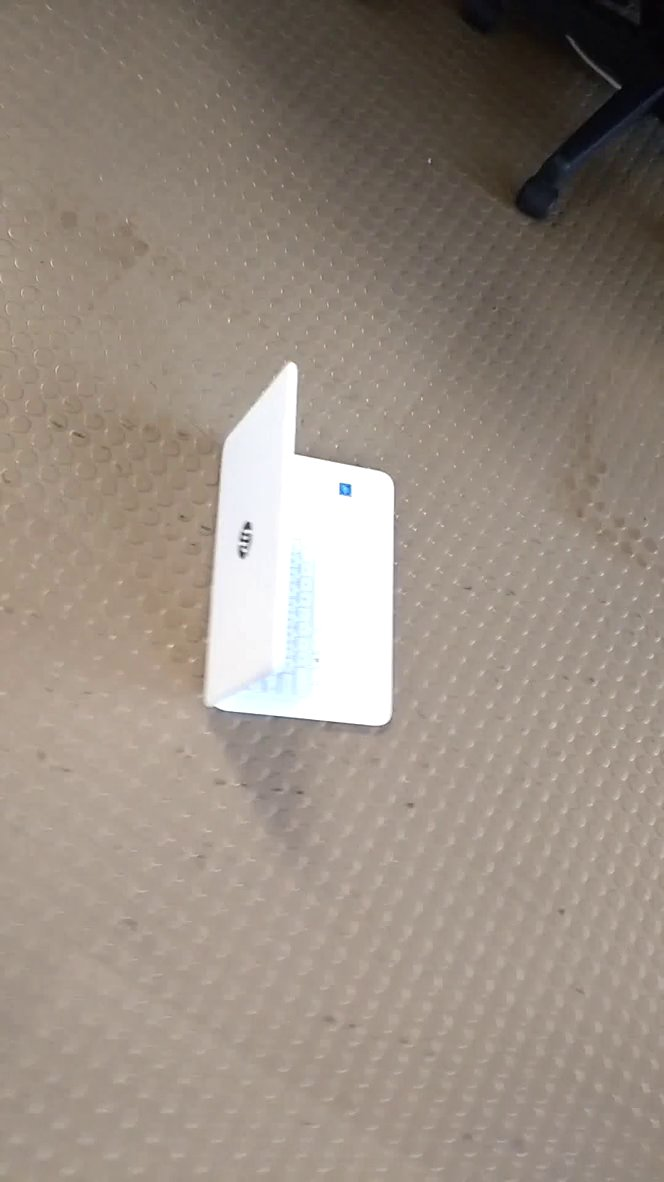laptop: (196, 351, 410, 744)
